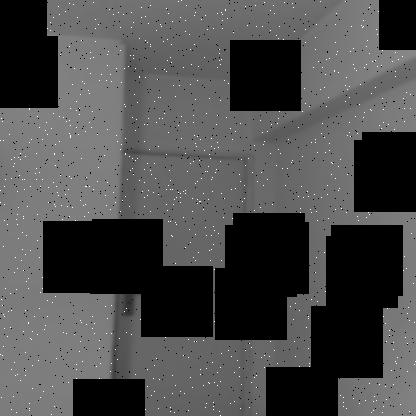Porte: (109, 143, 261, 415)
